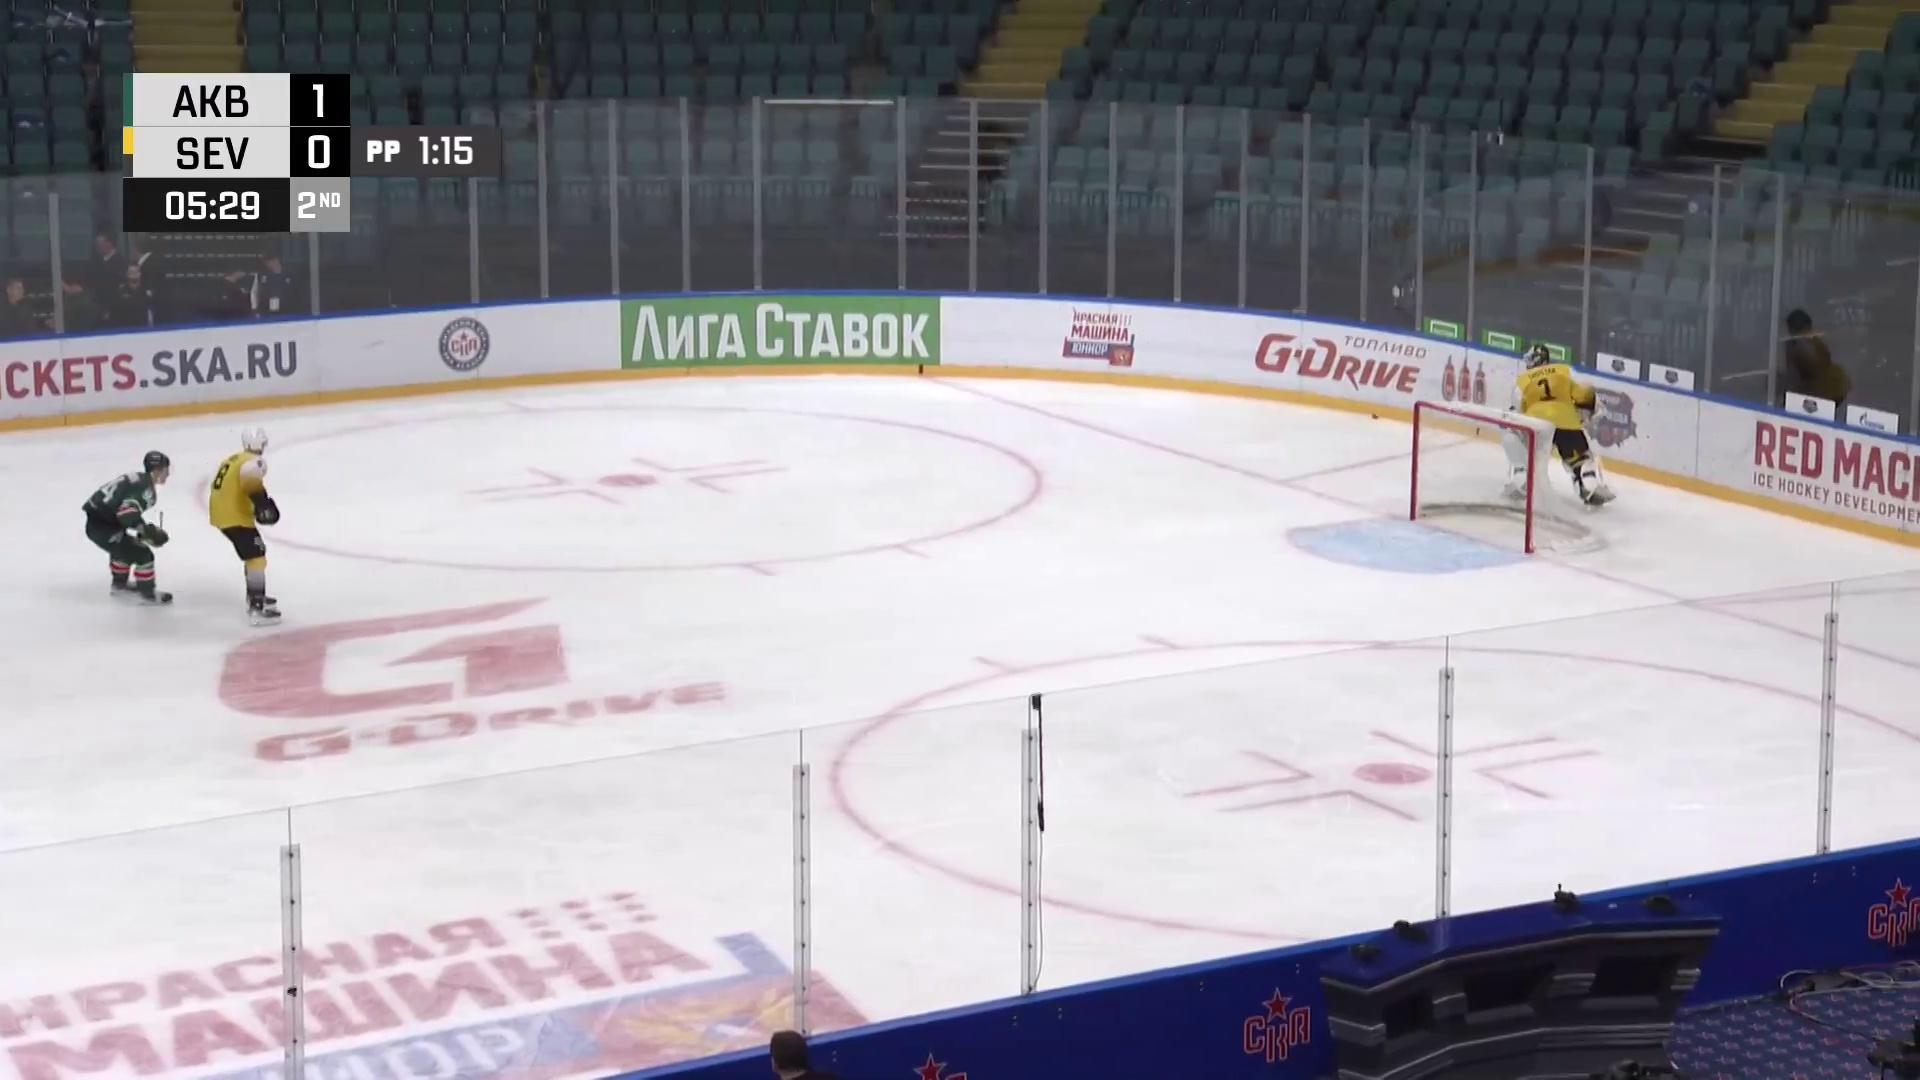ball: (1371, 411, 1382, 421)
